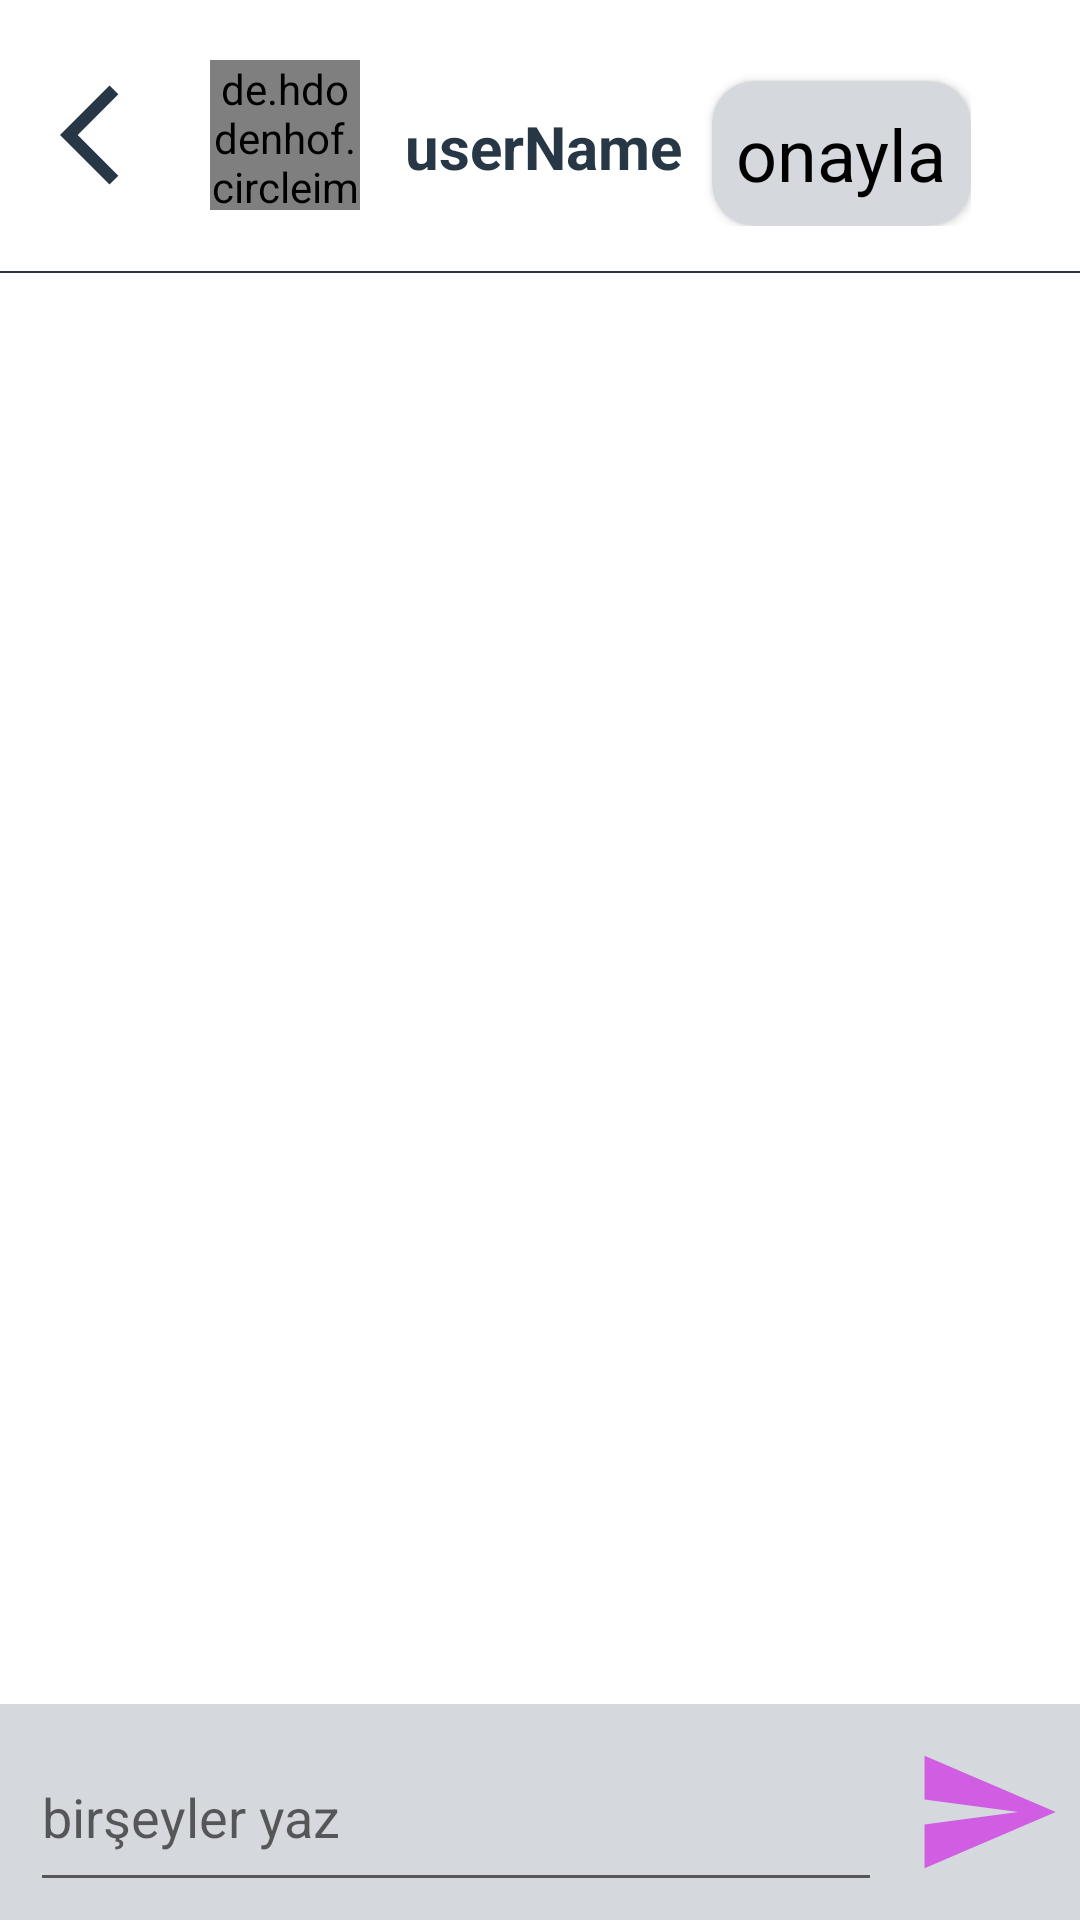

Icon click points for this 1080px x 1920px phone screenshot, format point (x, y):
back: point (89, 135)
send: point (989, 1812)
